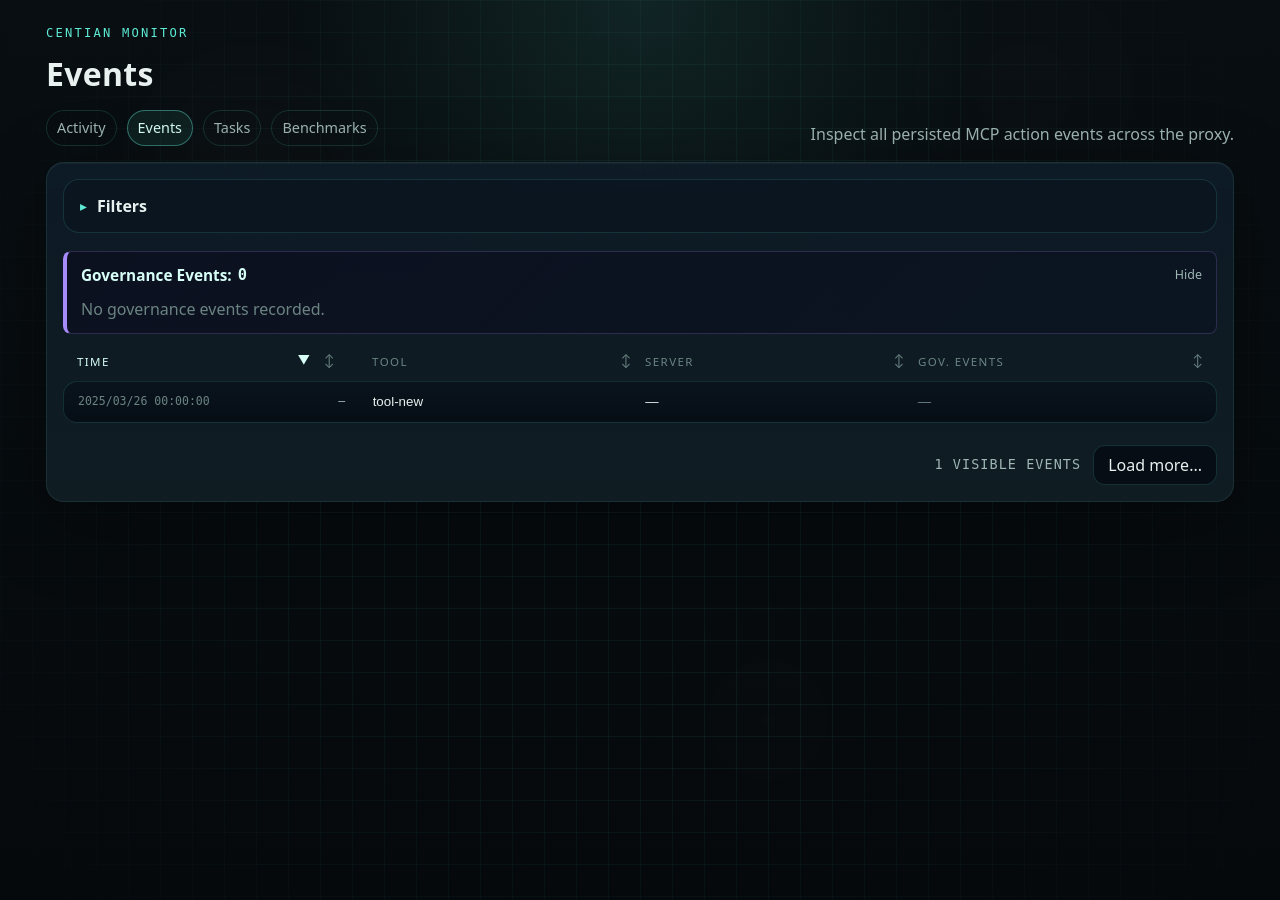
event list › appends older events using the cursor URL token
Expected: the text "tool-new" is shown, left=373, top=394, right=423, bottom=409
Click the button "Load more...".
click(1155, 465)  # box left=1093, top=445, right=1217, bottom=485
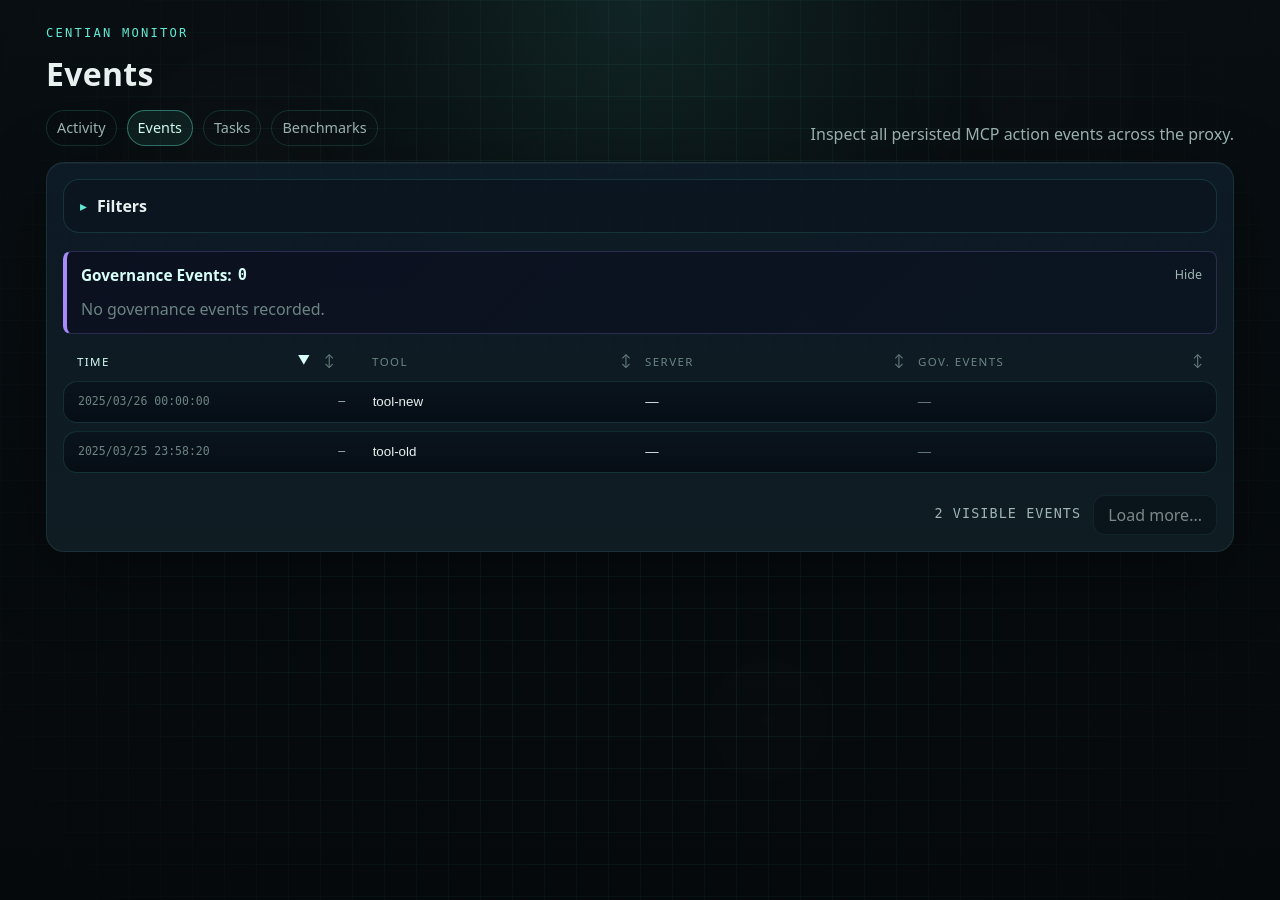
Expected: the text "tool-new" is shown, left=373, top=394, right=423, bottom=409
Now the text "tool-old" is shown, box left=373, top=444, right=416, bottom=459
